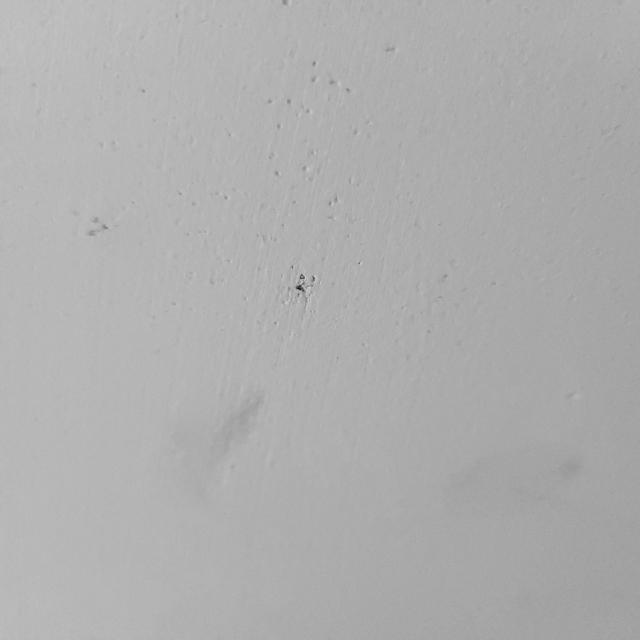rough and patchy surface: (158, 0, 410, 343)
stain marks: (145, 373, 277, 510), (424, 444, 592, 524)
